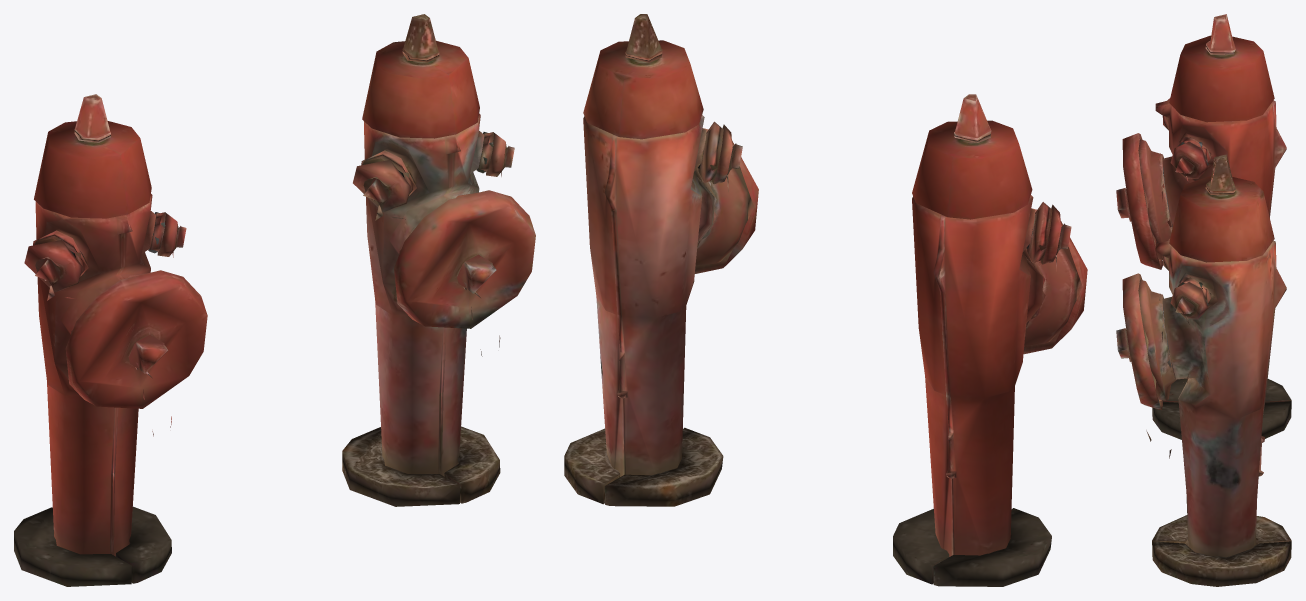
File: fire_hydrant.glb
3 views of the same model, side by side, from view 1: azimuth 30°, elevation 25°; view 2: azimuth 150°, elevation 25°; view 3: azimuth 270°, elevation 25° (orthographic). The views are drawn at different scales.
Parts seen in each view (by area): view 1: fire_hydrant_aged, fire_hydrant; view 2: fire_hydrant_aged, fire_hydrant; view 3: fire_hydrant_aged, fire_hydrant.
Boxes of the visible parts, bbox=[...] form: fire_hydrant_aged: bbox=[342, 14, 535, 506]; fire_hydrant: bbox=[14, 94, 207, 586]; fire_hydrant_aged: bbox=[564, 14, 758, 506]; fire_hydrant: bbox=[893, 94, 1087, 586]; fire_hydrant_aged: bbox=[1116, 154, 1291, 586]; fire_hydrant: bbox=[1116, 14, 1291, 439].
Bounding box in the file's own units: 0.8728 × 0.7992 × 0.3173.
2 materials, 2 textured.
